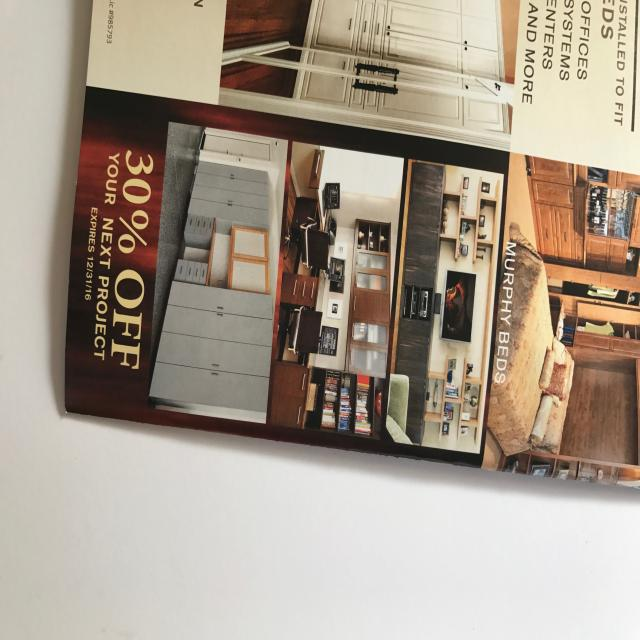paper: (60, 0, 640, 489)
